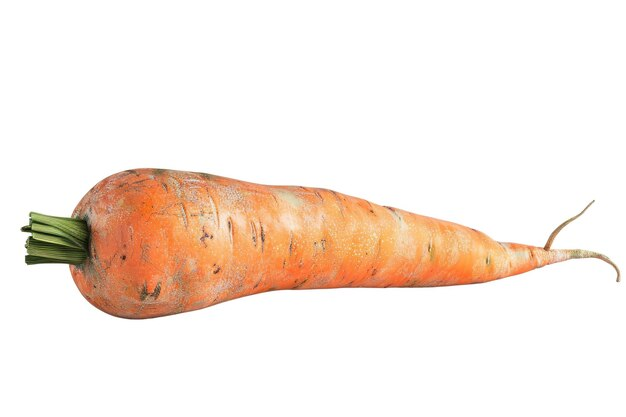rotten carrot: (13, 131, 605, 359)
